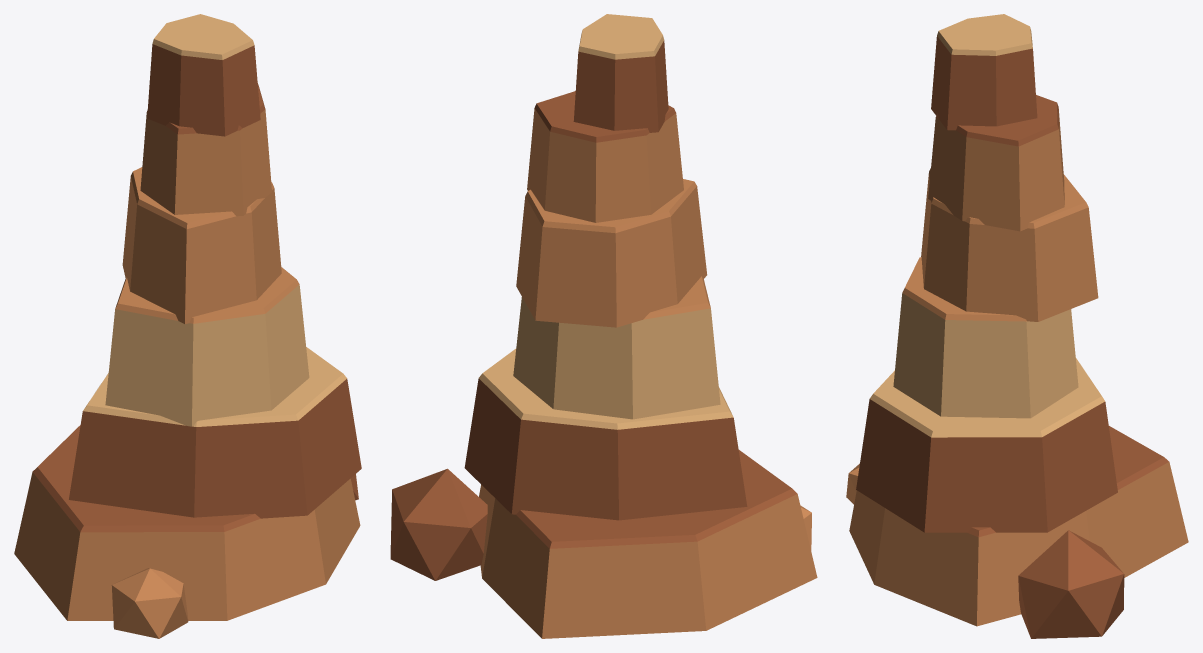
Rendered from rock_spire_a.glb.
3 views of the same model, side by side, from view 1: azimuth 30°, elevation 25°; view 2: azimuth 150°, elevation 25°; view 3: azimuth 270°, elevation 25° (orthographic).
Visible parts, largest first — view 1: rock_spire_a; view 2: rock_spire_a; view 3: rock_spire_a.
Part boxes in pixels (x1,y1,x2,y2): rock_spire_a: (14,14,361,638); rock_spire_a: (390,14,817,638); rock_spire_a: (846,14,1188,638).
Bounding box in the file's own units: 2.25 × 3.18 × 1.9.
